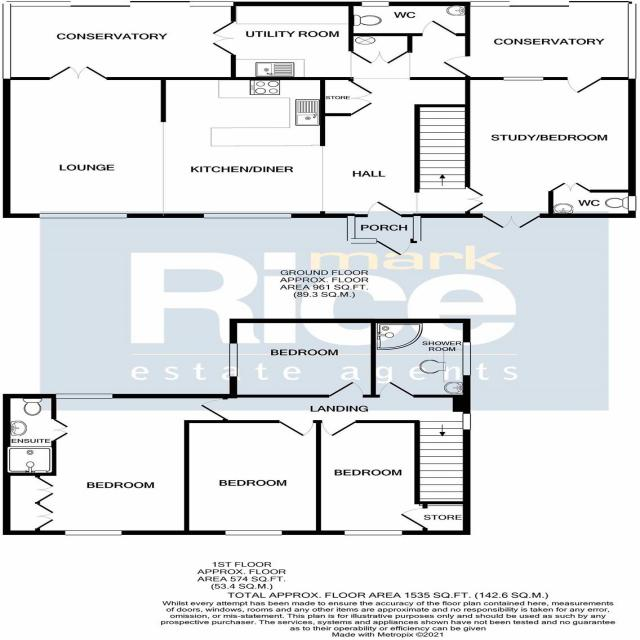DOOR: (192, 396, 235, 426), (564, 75, 605, 96), (277, 419, 318, 439), (377, 379, 417, 399), (398, 507, 432, 530), (418, 18, 459, 37), (363, 199, 404, 218), (326, 380, 366, 399), (320, 419, 360, 438), (376, 238, 413, 258), (440, 55, 472, 77)
DOUBLE DOOR: (48, 64, 111, 80)
ROOM: (0, 67, 492, 221), (1, 393, 238, 535), (183, 418, 325, 536), (312, 417, 429, 537), (227, 317, 378, 400)
WINDOW: (0, 0, 14, 84), (35, 209, 132, 221), (221, 528, 286, 538), (227, 342, 241, 379), (342, 529, 406, 537), (54, 392, 114, 400), (460, 342, 473, 377), (63, 530, 123, 536), (344, 214, 357, 240), (501, 75, 547, 82), (360, 0, 393, 8), (345, 237, 378, 245)
